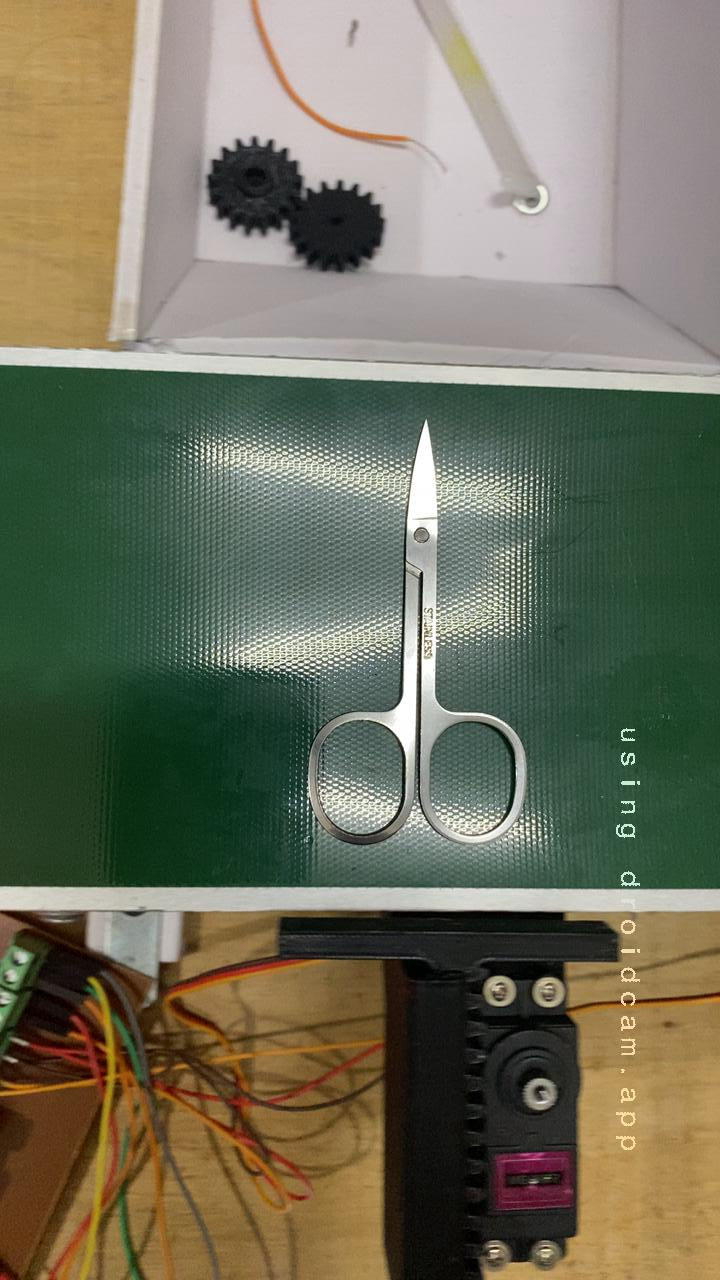scissor: (247, 412, 552, 871)
